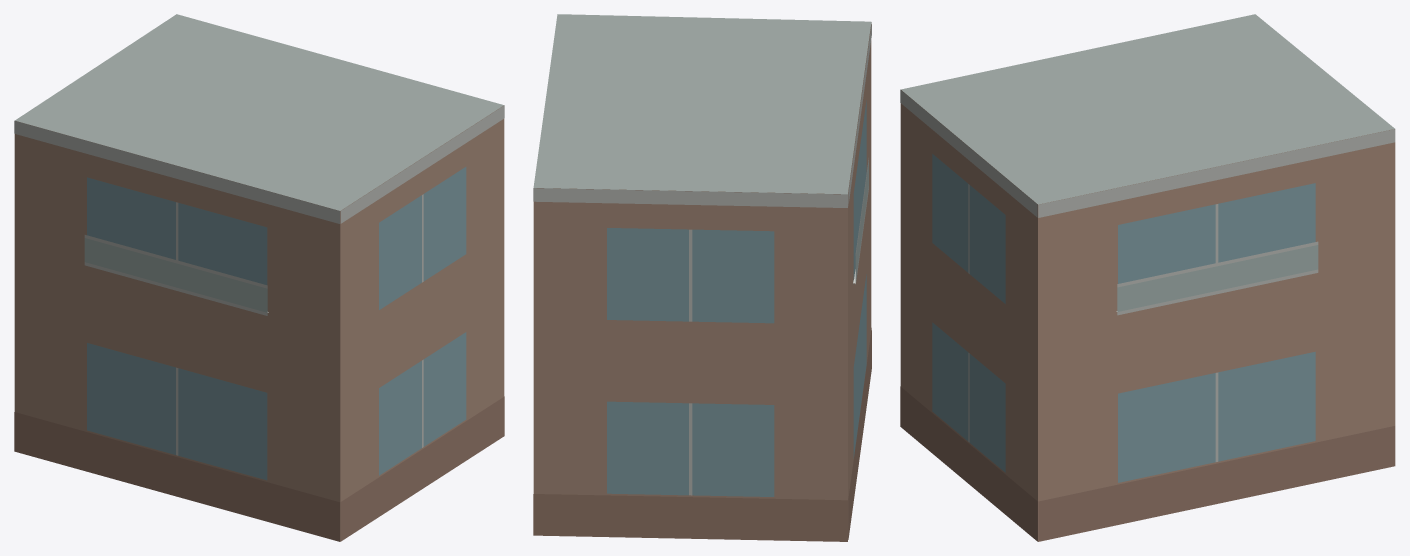
Rendered from survey-upis-32614793.glb.
3 views of the same model, side by side, from view 1: azimuth 30°, elevation 25°; view 2: azimuth 150°, elevation 25°; view 3: azimuth 270°, elevation 25° (orthographic). The views are drawn at different scales.
Visible parts, largest first — view 1: survey-upis-32614793.tmp; view 2: survey-upis-32614793.tmp; view 3: survey-upis-32614793.tmp.
Part boxes in pixels (<box>): survey-upis-32614793.tmp: <box>14,14,504,541</box>; survey-upis-32614793.tmp: <box>533,14,871,541</box>; survey-upis-32614793.tmp: <box>900,14,1395,541</box>.
Bounding box in the file's own units: 7.4 × 6.1 × 8.12.
